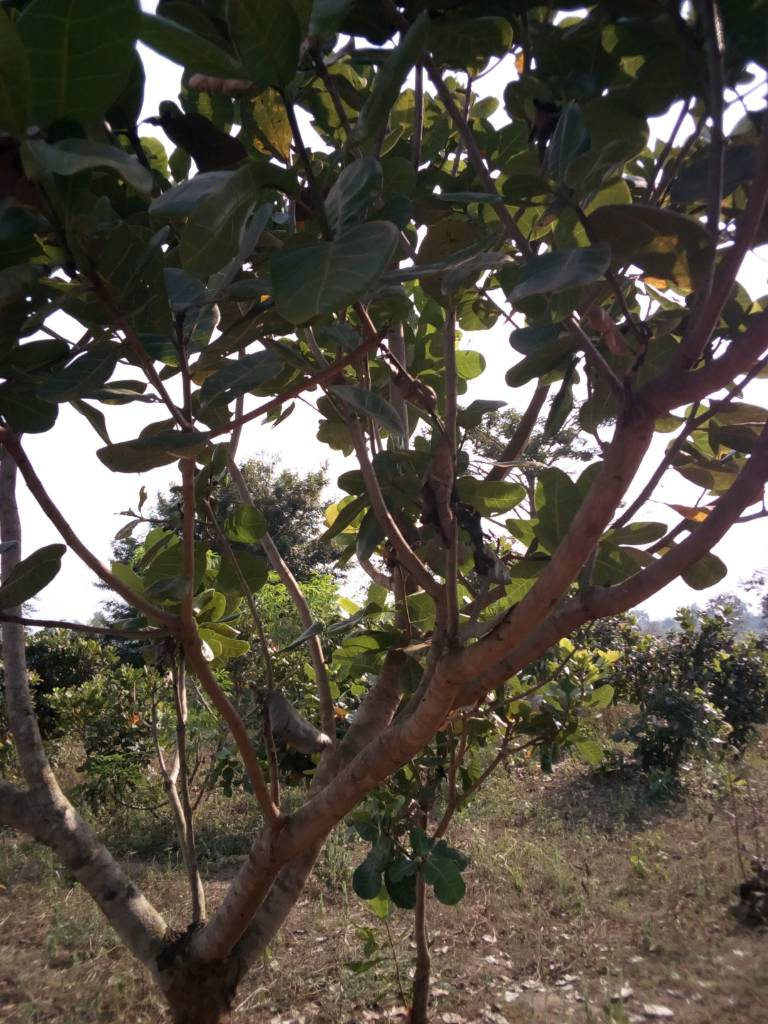Dessèchement des bourgeons: (421, 433, 513, 583)
